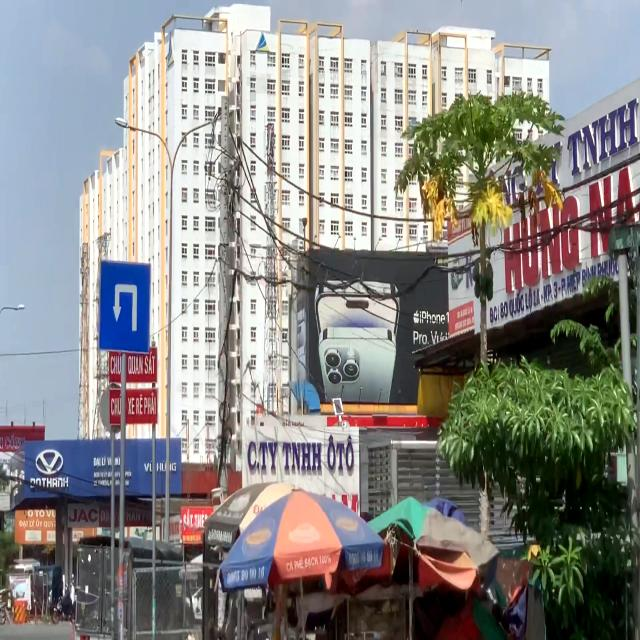R.409: (97, 258, 152, 356)
